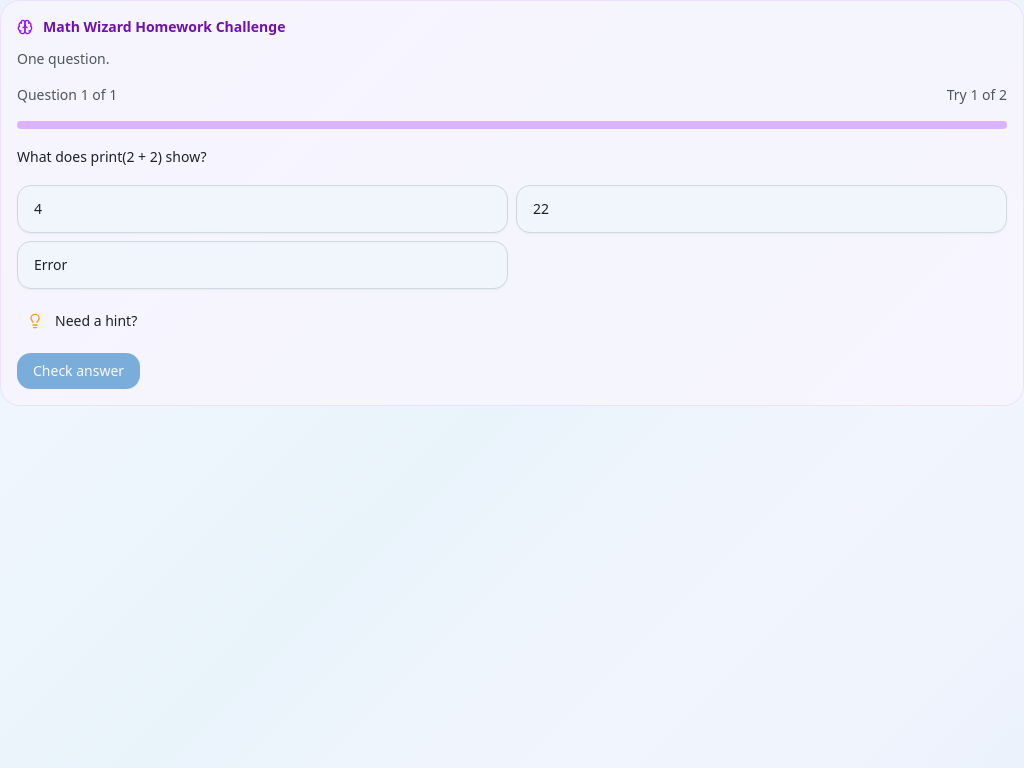
Test: QuickCheck › caps a long take-home pause and reports a failed answer check
The image size is (1024, 768).
Expected: the heading "Math Wizard Homework Challenge" is shown, left=43, top=17, right=285, bottom=37
What coordinates should you click on to do the following:
click the radio button labelled "4"
I would click on:
 (38, 208)
Its box is left=17, top=185, right=508, bottom=233.
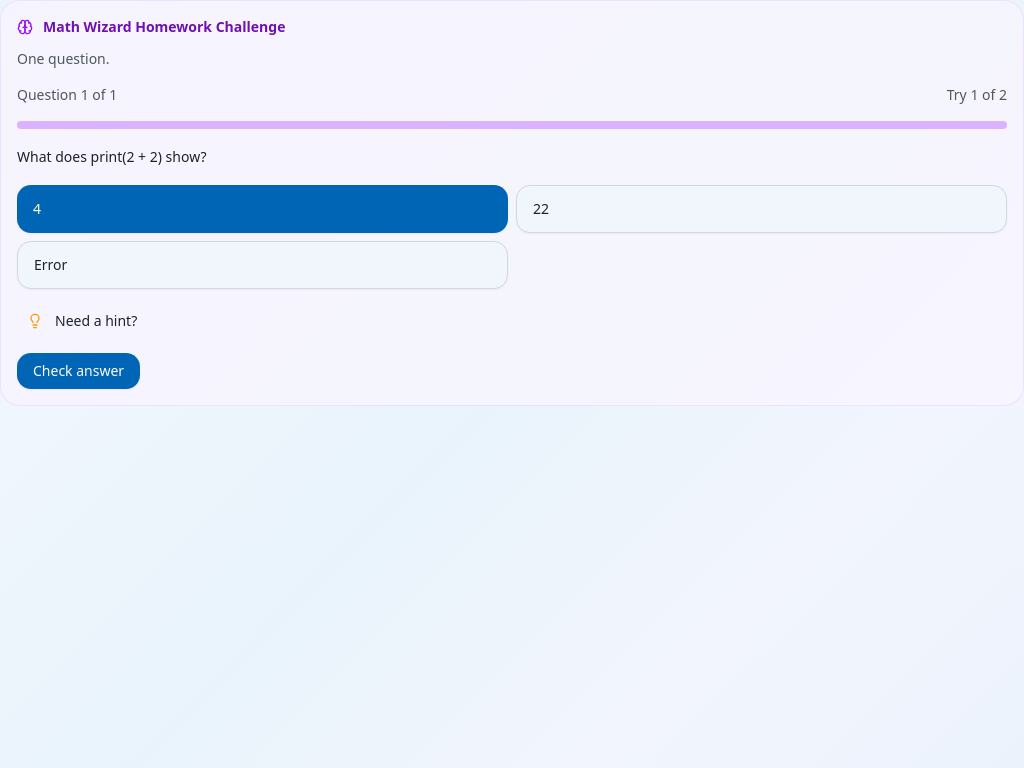
What coordinates should you click on to do the following:
click the button "Check answer"
I would click on:
 (79, 371)
Its box is left=17, top=353, right=140, bottom=389.
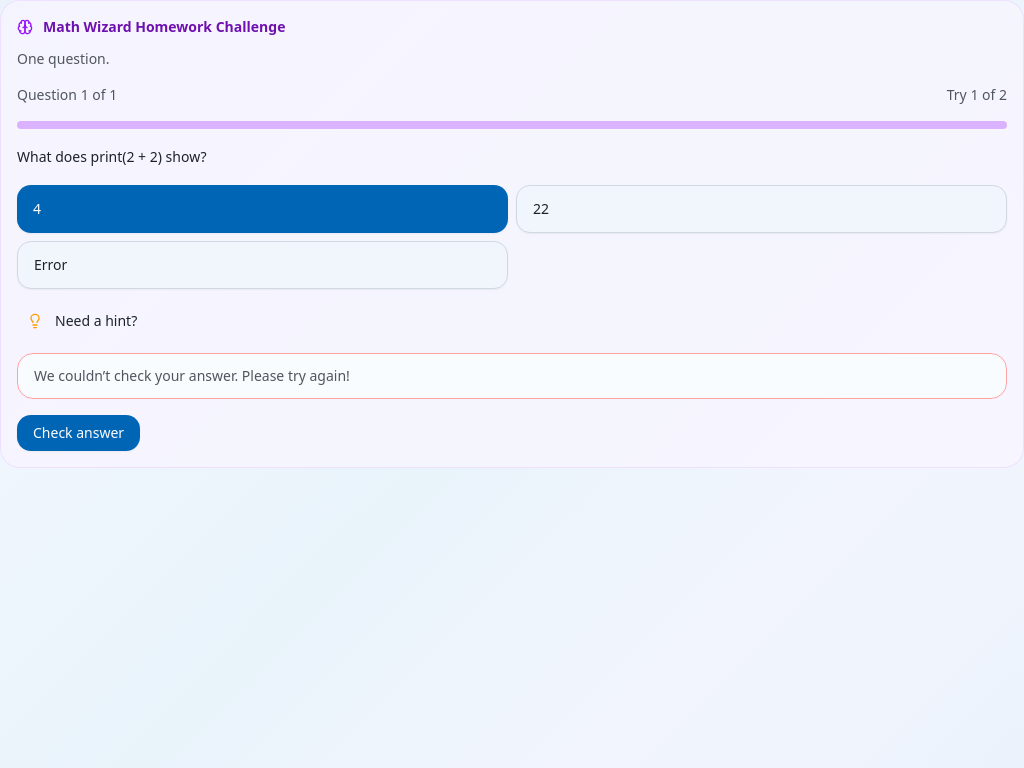
Result: the button "Check answer" is enabled at left=17, top=415, right=140, bottom=451
Result: the text "We couldn’t check your answer. Please try again!" is shown at left=34, top=366, right=350, bottom=385
